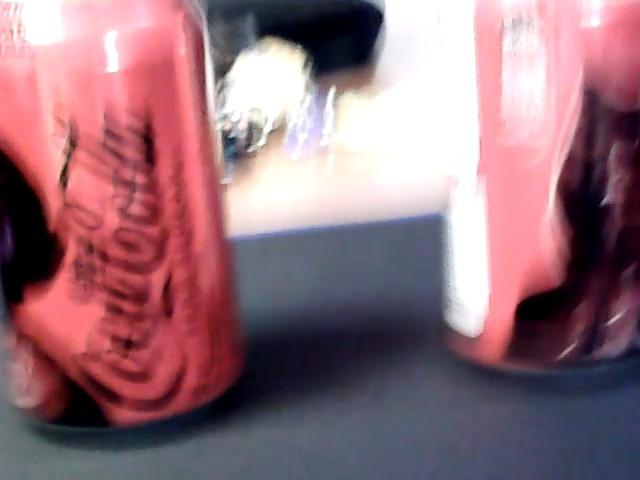coke: (0, 1, 245, 438), (444, 2, 638, 381)
